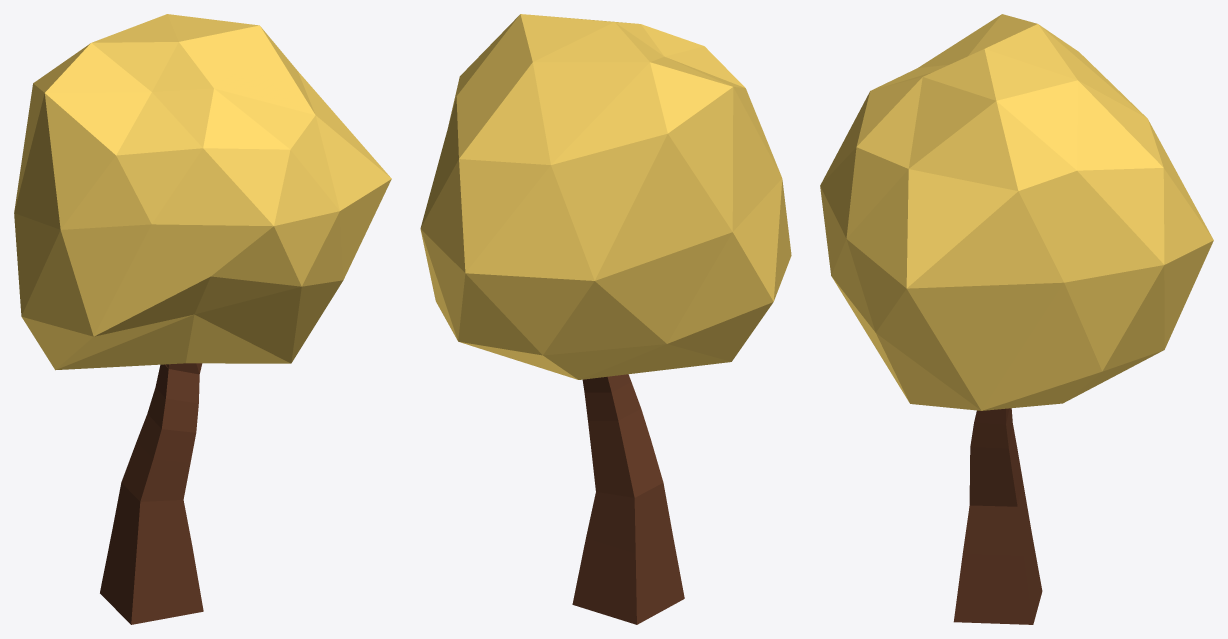
File: LemonTree4.fbx
3 renders of one model, left to right at view 1: azimuth 30°, elevation 25°; view 2: azimuth 150°, elevation 25°; view 3: azimuth 270°, elevation 25°, orthographic.
Parts seen in each view (by area): view 1: LemonTree4; view 2: LemonTree4; view 3: LemonTree4.
Boxes of the visible parts, x1=… form: LemonTree4: x1=14, y1=14, x2=391, y2=624; LemonTree4: x1=420, y1=14, x2=791, y2=624; LemonTree4: x1=820, y1=14, x2=1213, y2=624.
Bounding box in the file's own units: 248 × 400 × 251.
